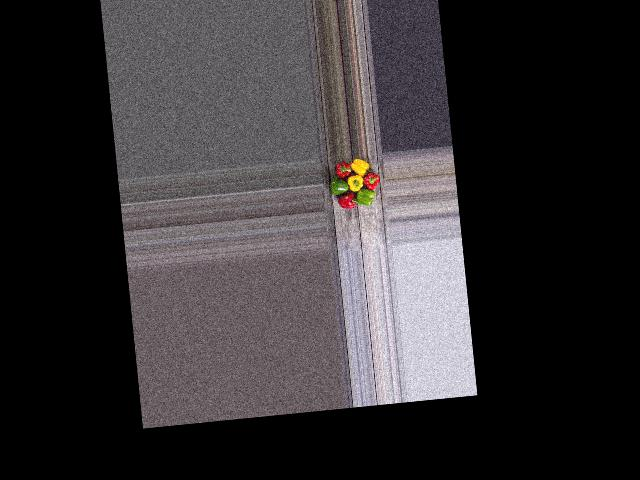bell_pepper: (334, 157, 355, 178)
